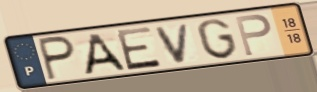A: (82, 31, 129, 77)
E: (113, 25, 164, 73)
G: (195, 17, 240, 61)
P: (36, 34, 78, 82), (232, 12, 274, 58)
V: (153, 21, 192, 65)
